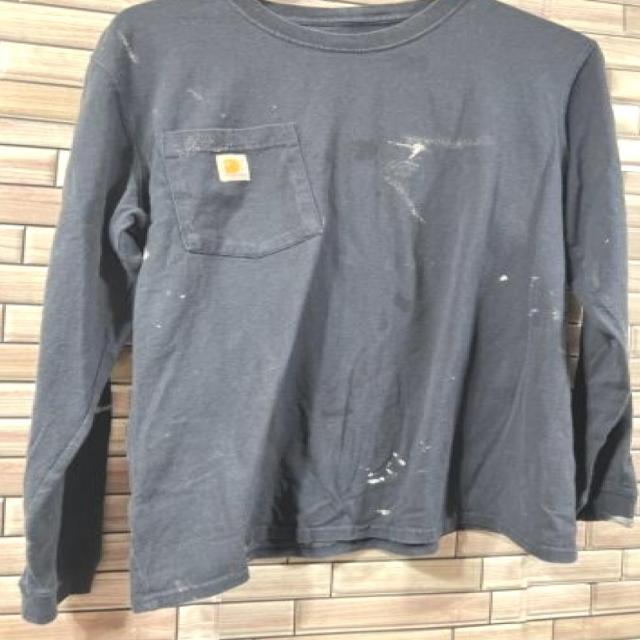stain: (378, 165, 436, 229), (394, 135, 498, 160), (364, 444, 410, 494), (110, 29, 156, 77), (492, 270, 541, 290), (526, 303, 566, 323), (181, 86, 213, 105), (162, 285, 199, 300)
